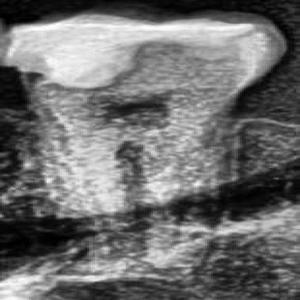tooth: (0, 10, 285, 274)
